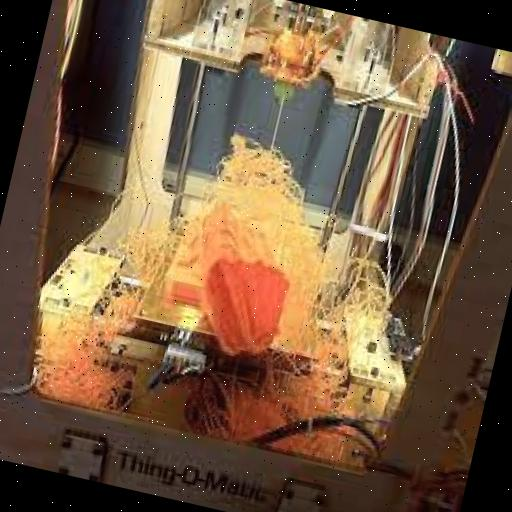spaghetti: (126, 121, 438, 442), (32, 222, 178, 420)
